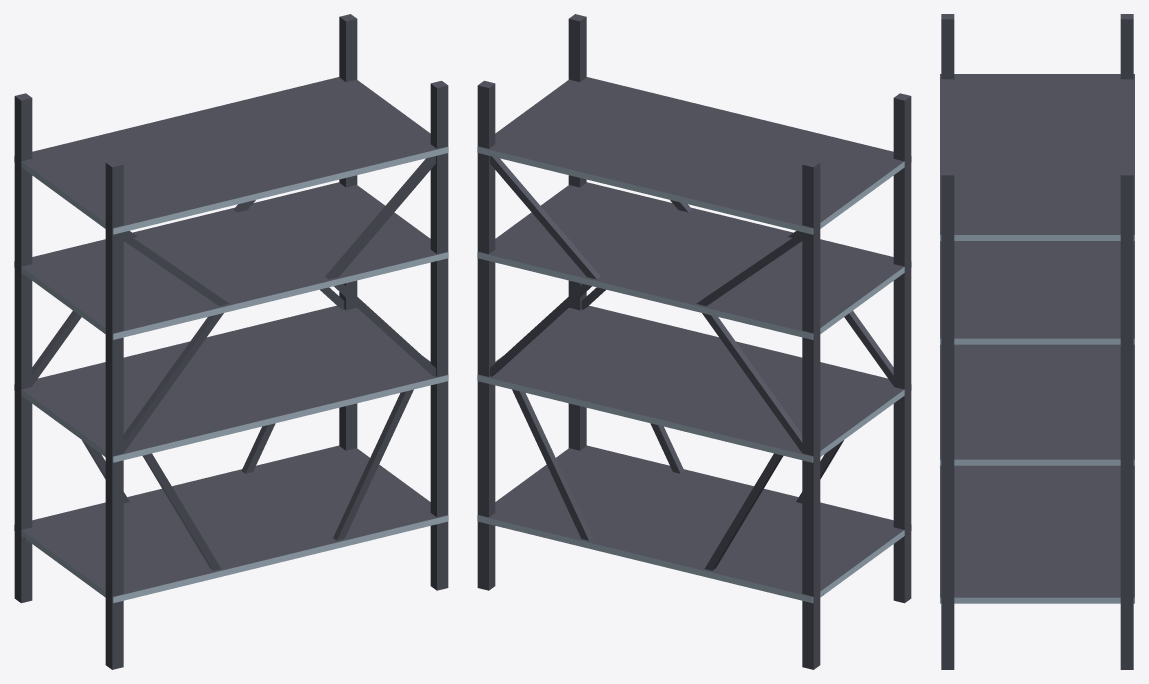
Rendered from shelf.fbx.
3 renders of one model, left to right at view 1: azimuth 30°, elevation 25°; view 2: azimuth 150°, elevation 25°; view 3: azimuth 270°, elevation 25°, orthographic.
Visible parts, largest first — view 1: Cube.004; view 2: Cube.004; view 3: Cube.004.
Boxes of the visible parts, x1=… form: Cube.004: x1=14, y1=14, x2=448, y2=669; Cube.004: x1=477, y1=14, x2=911, y2=669; Cube.004: x1=940, y1=14, x2=1134, y2=669.
Bounding box in the file's own units: 200 × 286 × 102.
